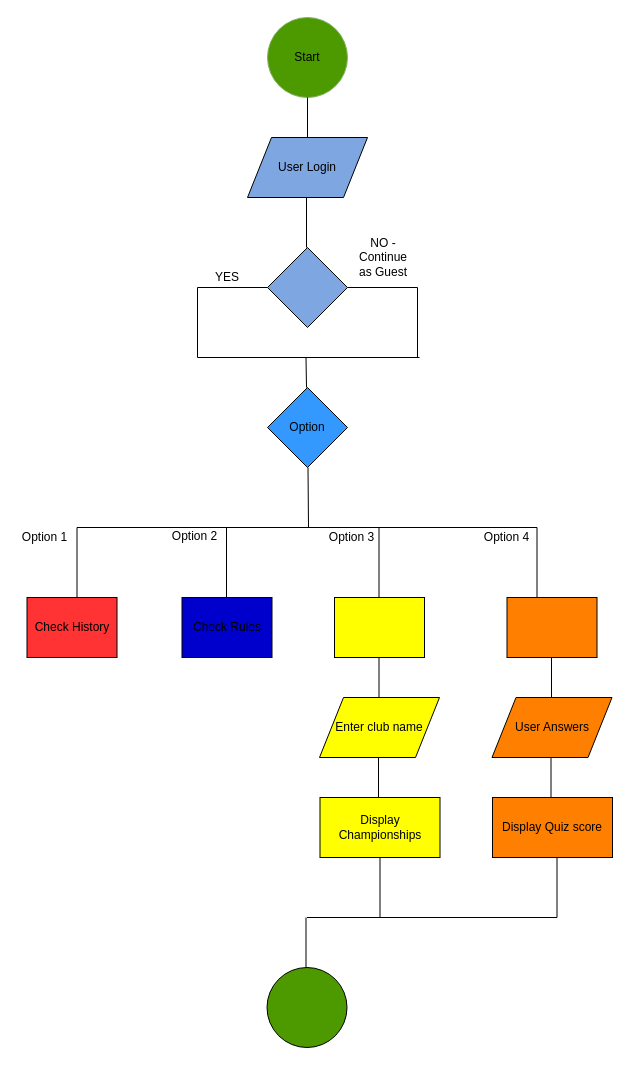
Some shapes in this 630 by 1065 pixel diagram are drawn without their labels. Each missing label, with the box of its shape:
Clubs List: (334, 596, 424, 658)
End: (266, 966, 347, 1048)
Take Quiz: (506, 596, 597, 658)
User Exists?: (266, 246, 348, 328)
